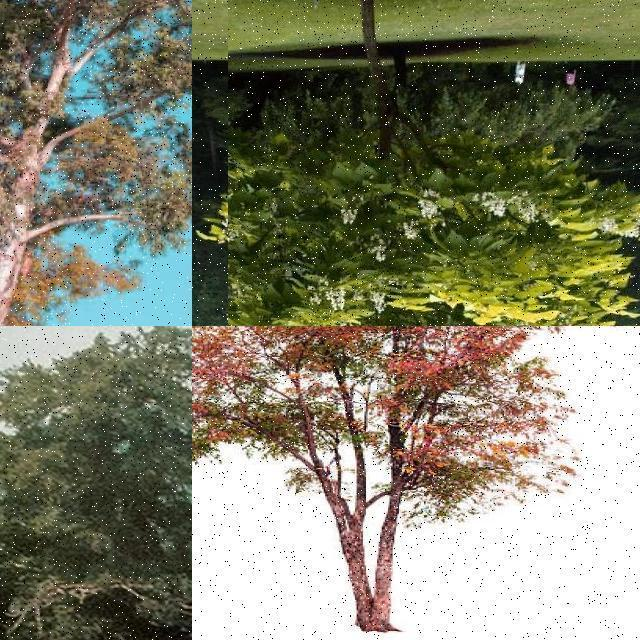tree: (228, 0, 640, 326), (192, 326, 604, 636), (0, 0, 192, 326), (0, 326, 192, 640), (192, 222, 412, 326)
